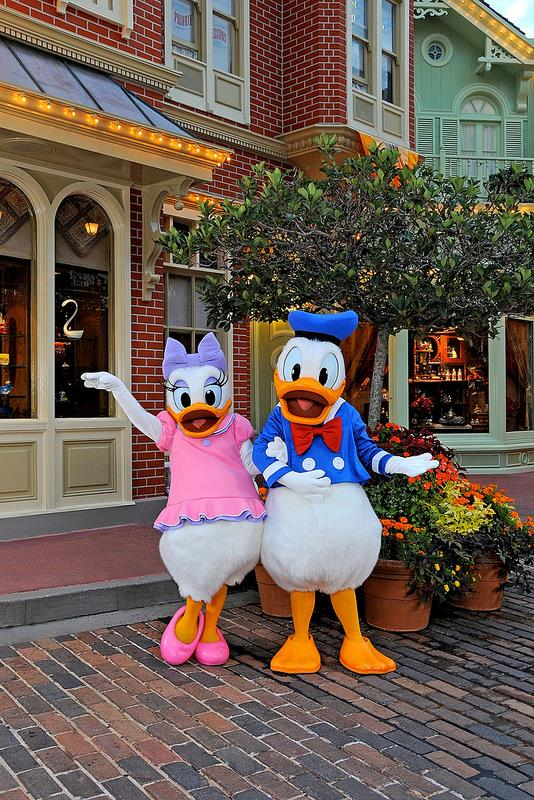Donald_Duck: (263, 299, 437, 679)
